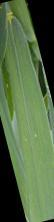Wheat: (16, 108, 53, 222), (2, 23, 43, 110)
